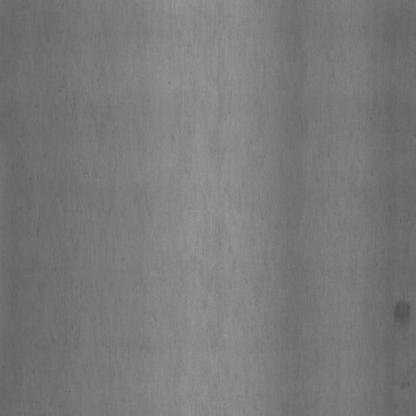oil_spot: (391, 291, 413, 328)
